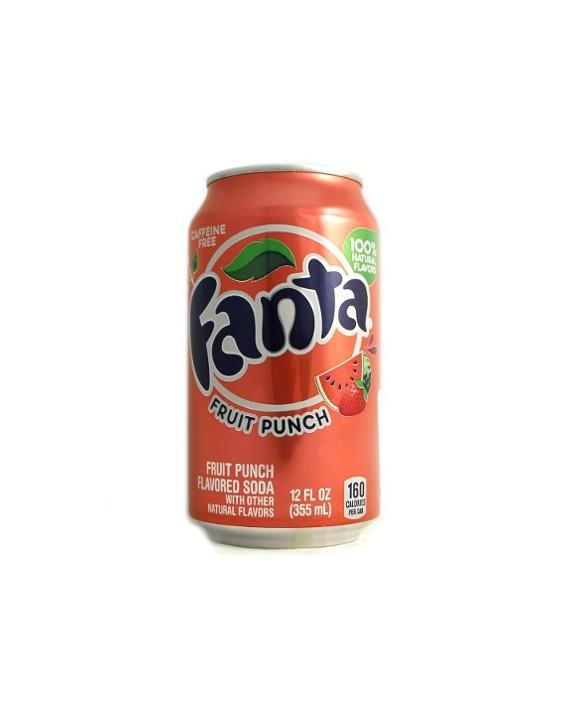metal: (189, 165, 379, 548)
